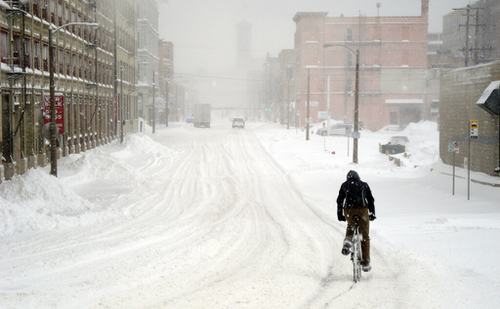bikerider: (326, 161, 379, 291)
